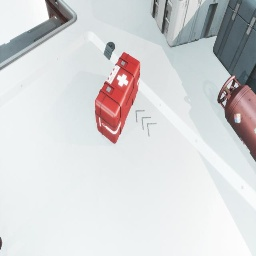FirstAidBox ,: (95, 52, 140, 144)
NitrogenTank ,: (217, 75, 256, 162), (0, 237, 2, 250)
